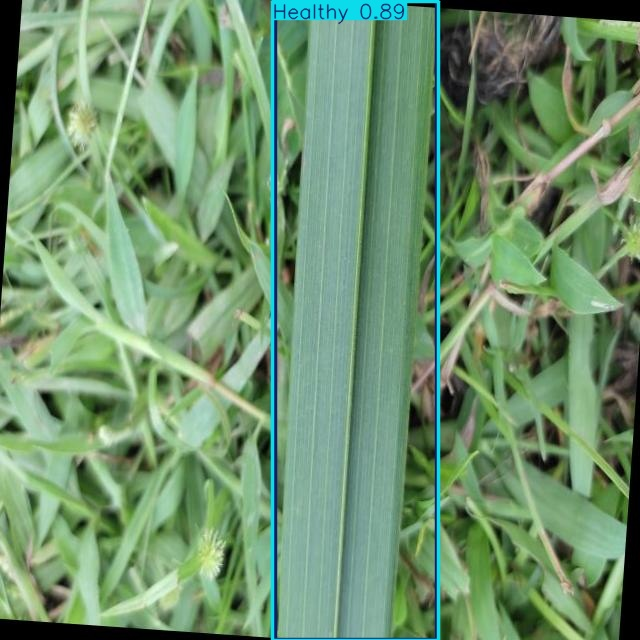Healthy: (273, 1, 438, 640)
nitrogen: (275, 0, 436, 640)
